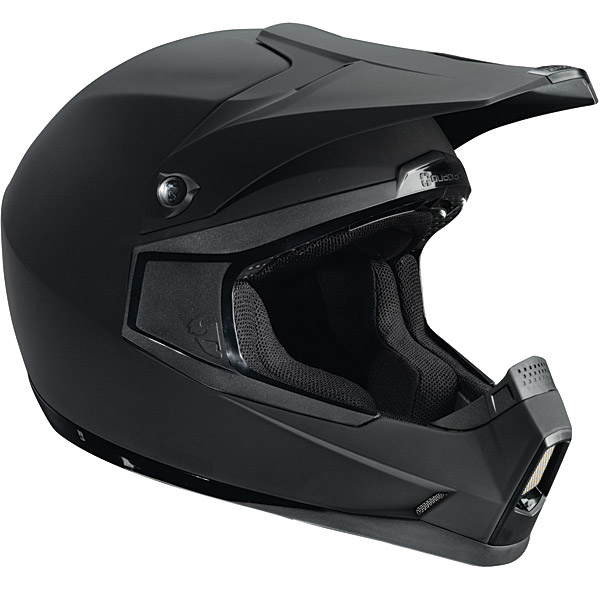with_helmet: (3, 19, 600, 570)
